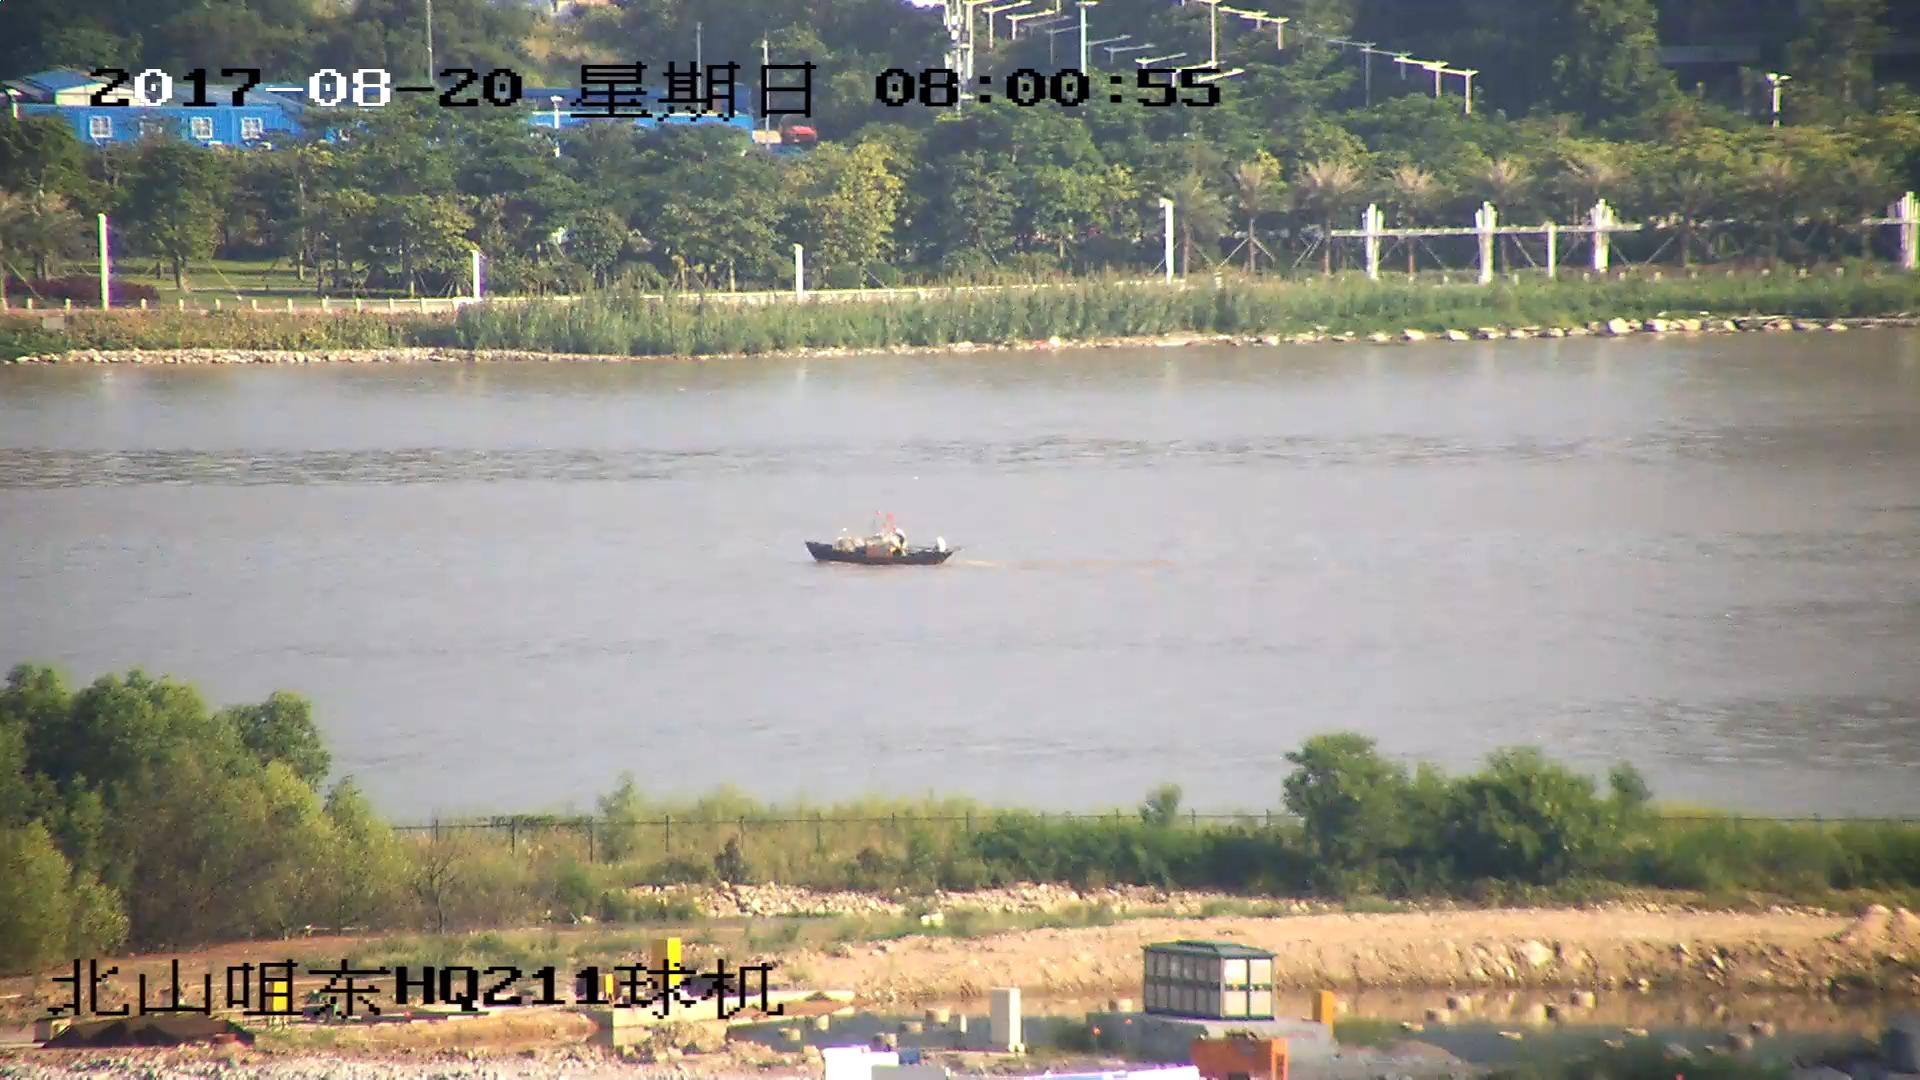fishing boat: (808, 512, 952, 568)
